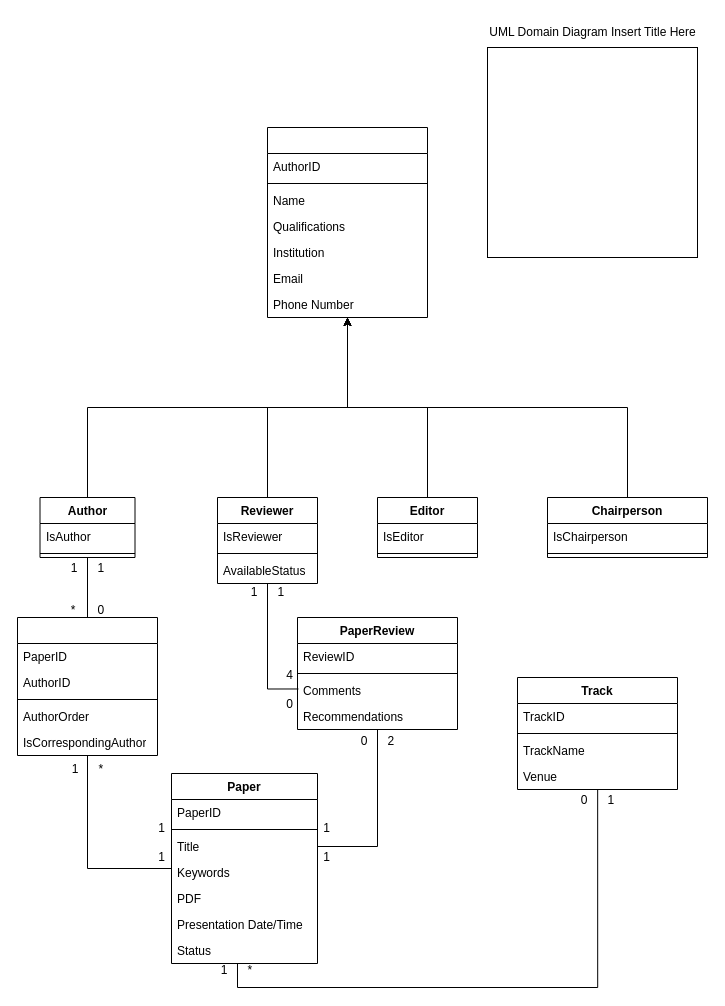
Image size: 725x1006. Some labels were removed from this diagram. The box of each missing label's shape, as (x1, y1, x2, y2) in pixels:
Insert Legend Here: (486, 46, 698, 258)
PaperAuthor: (16, 616, 158, 756)
Researcher: (266, 126, 428, 318)
